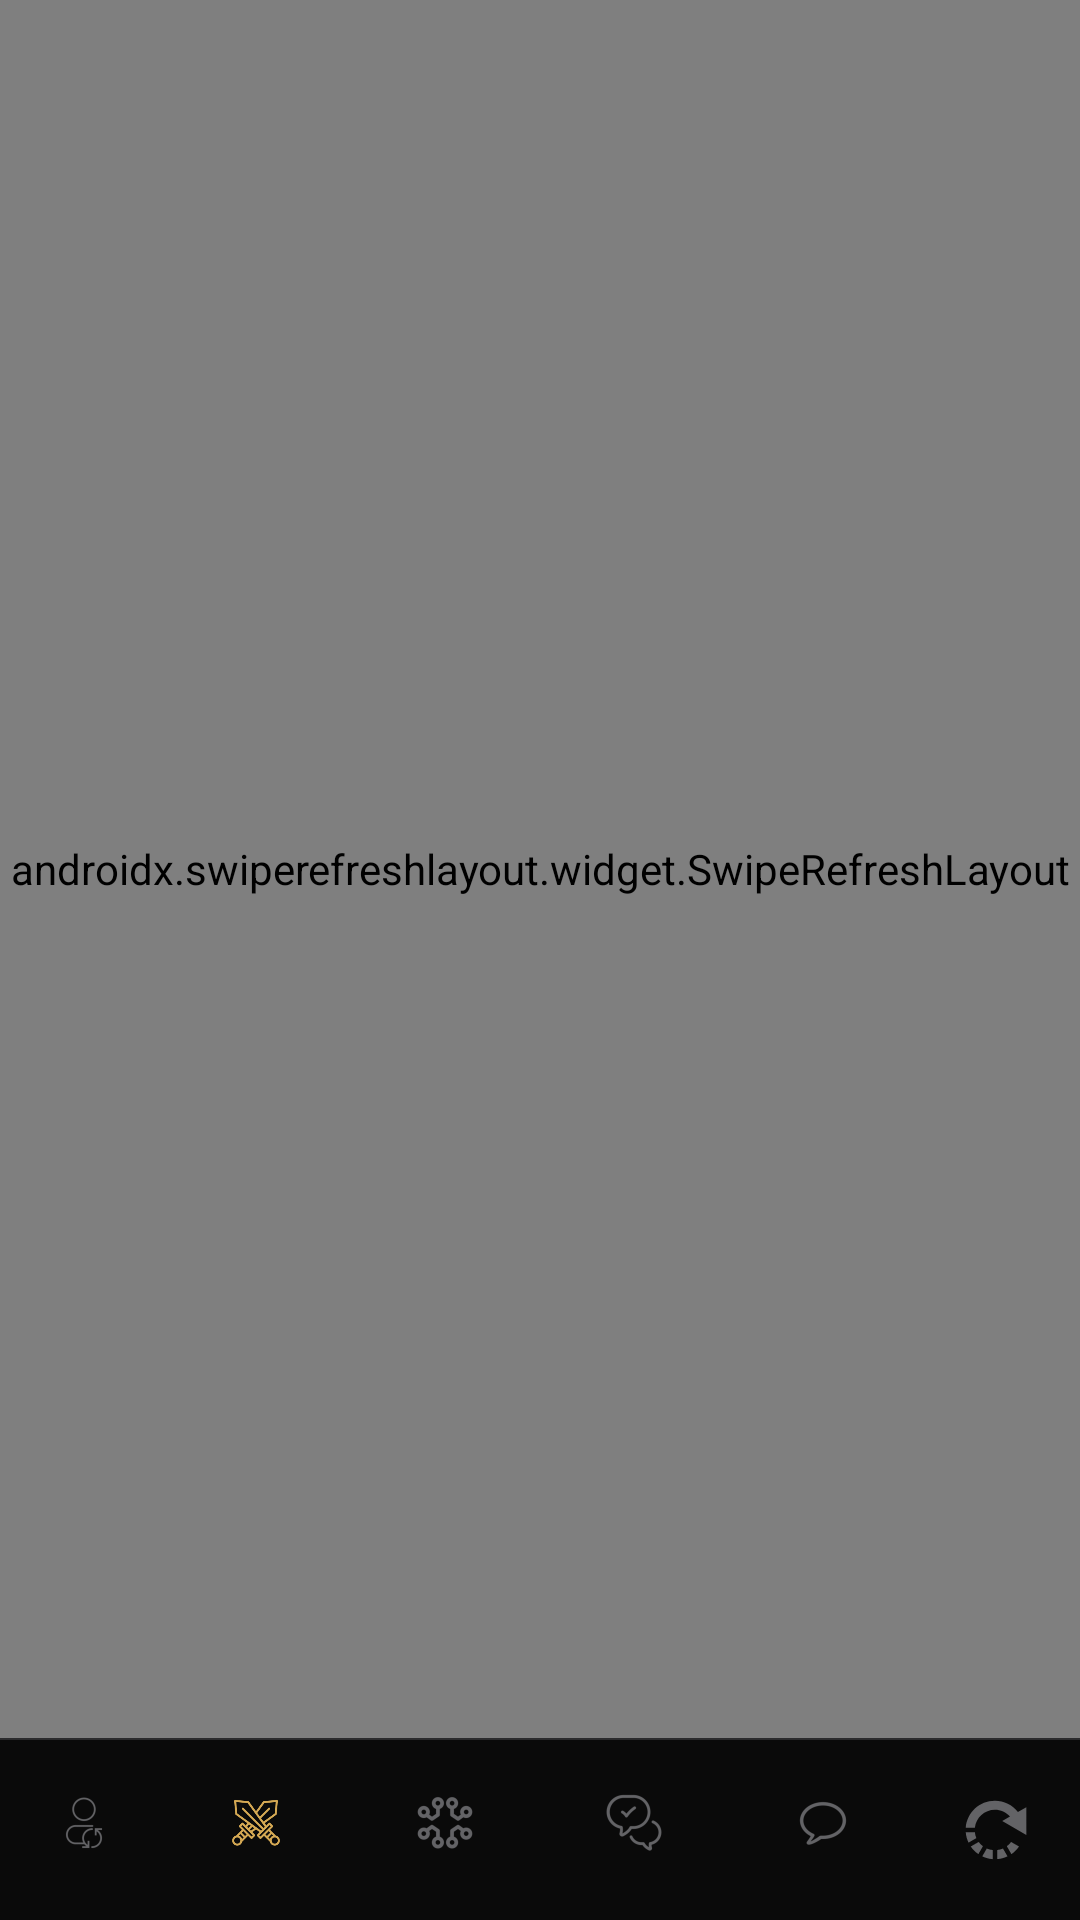

Locate icon controls on the screen. Image size 1080*1920, boxes as (x1, y1, x2, y2).
Accounts: (66, 1797, 102, 1848)
